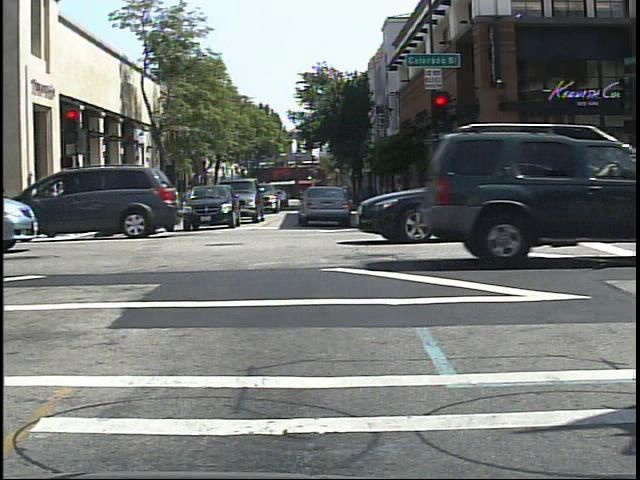person: (614, 152, 637, 223), (165, 181, 184, 221)
